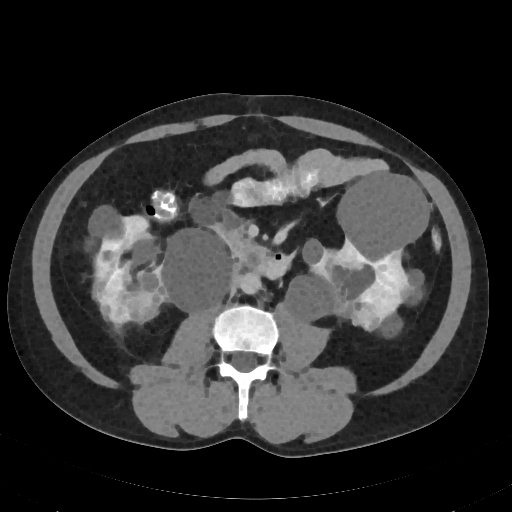Lesion: (349, 299, 384, 333)
